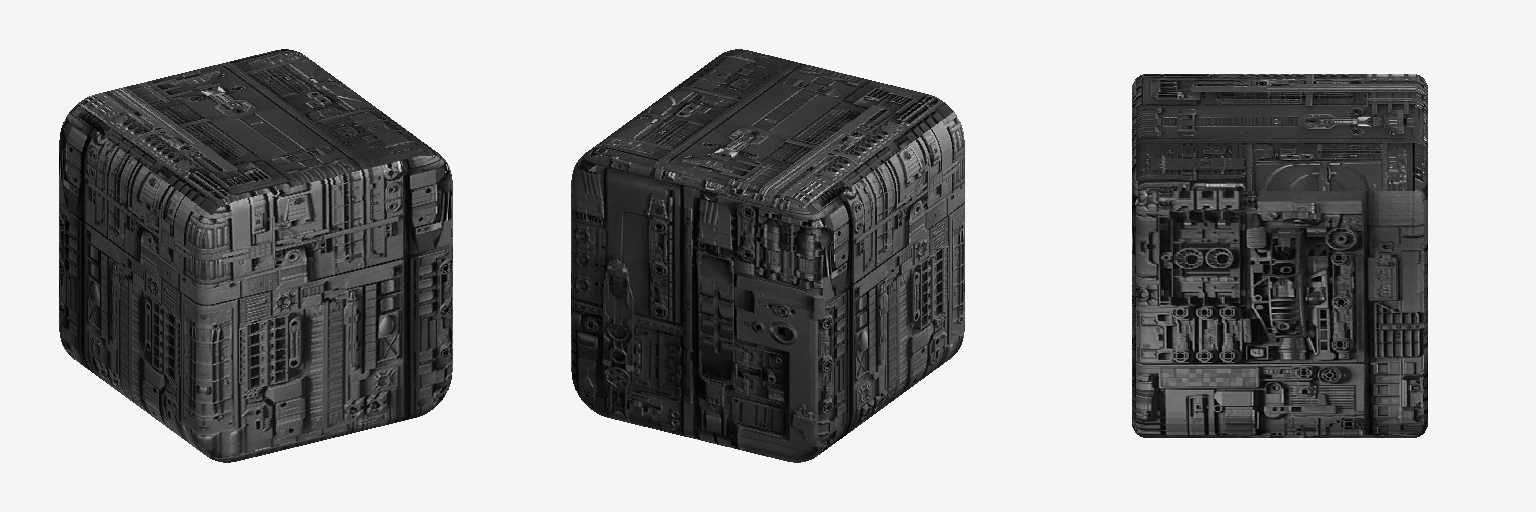
The picture shows the model from 3 angles: view 1: azimuth 30°, elevation 25°; view 2: azimuth 150°, elevation 25°; view 3: azimuth 270°, elevation 25°; orthographic projection.
Parts seen in each view (by area): view 1: Cube; view 2: Cube; view 3: Cube.
Part boxes in pixels (x1,y1,x2,y2): Cube: (59,49,452,462); Cube: (571,49,964,462); Cube: (1132,74,1427,437).
Bounding box in the file's own units: 2 × 2 × 2.
1 materials, 1 textured.